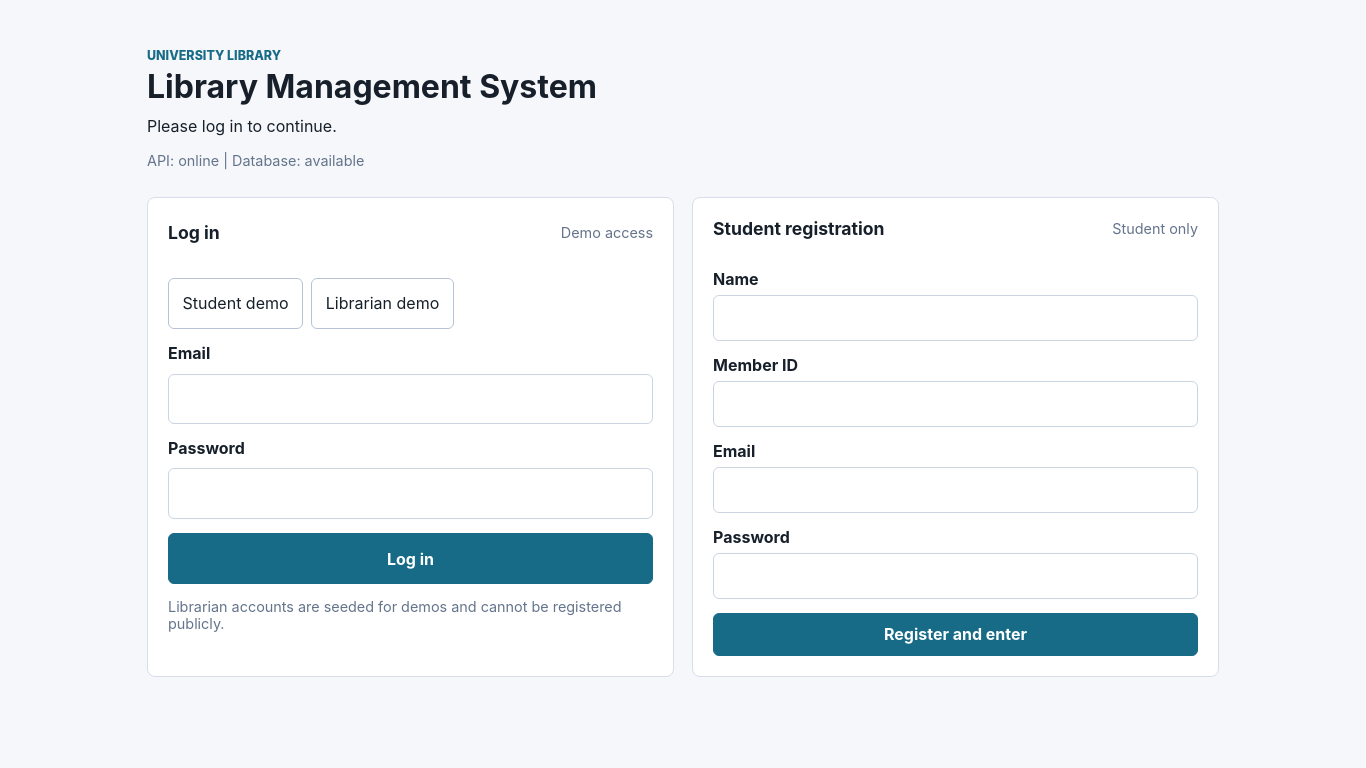
Test: auth flow › registers a student and auto-enters the dashboard
The width and height of the screenshot is (1366, 768).
Check: the heading "Student registration" is shown, box [713,218,884,239]
Type "New Student" into the field labelled "Name" at (956, 318), box [713,295,1198,341]
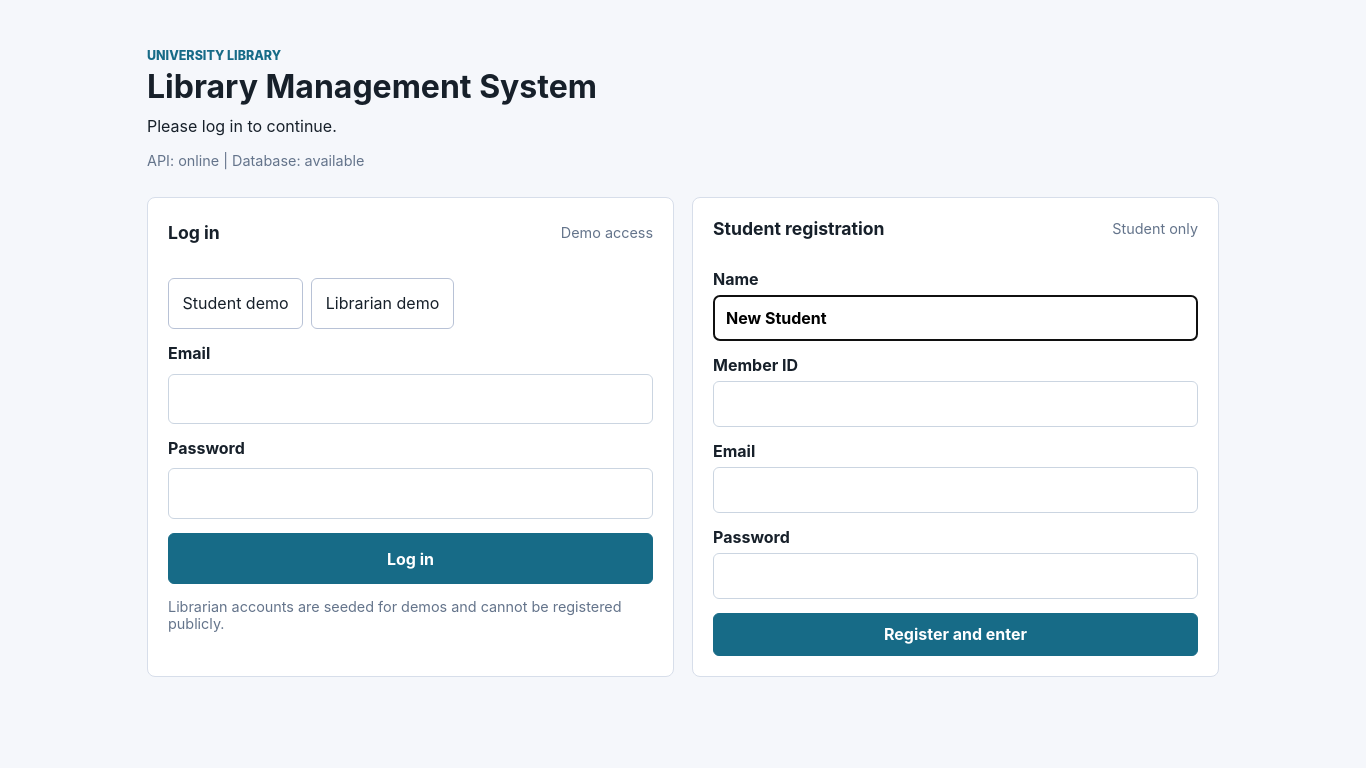
Type "STU-2002" into the field labelled "Member ID" at (956, 404), box [713,381,1198,427]
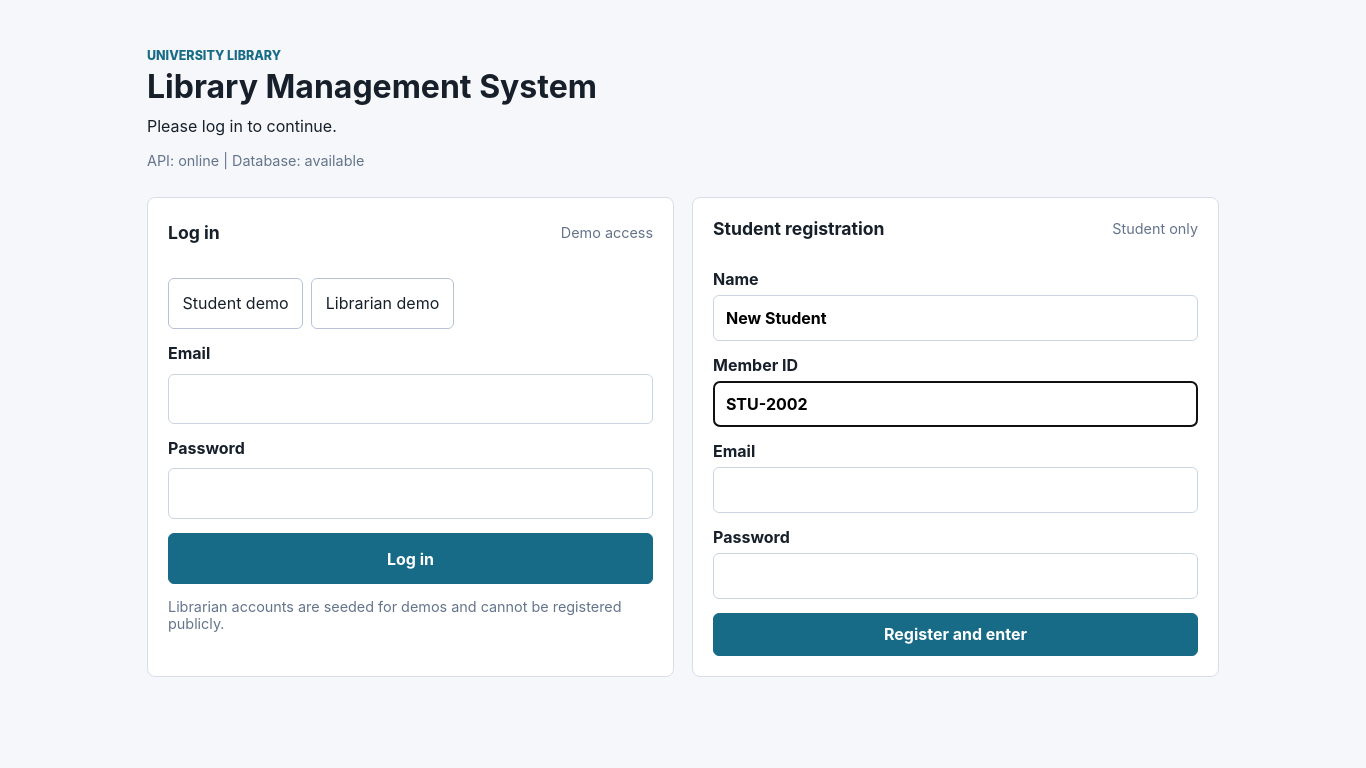
Type "new.student@example.edu" into the field labelled "Email" below "Member ID" at (956, 490), box [713,467,1198,513]
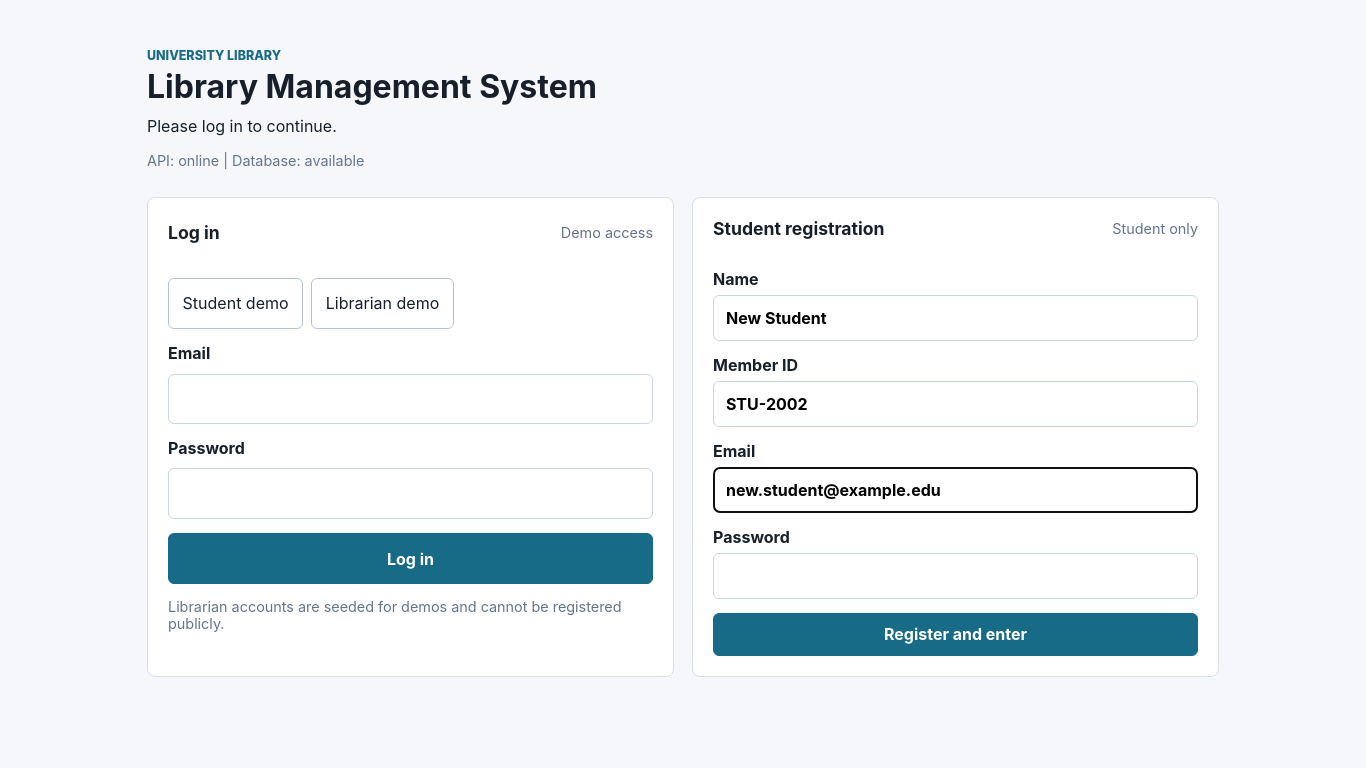
Type "password123" into the password field labelled "Password" below "Member ID" at (956, 576), box [713,553,1198,599]
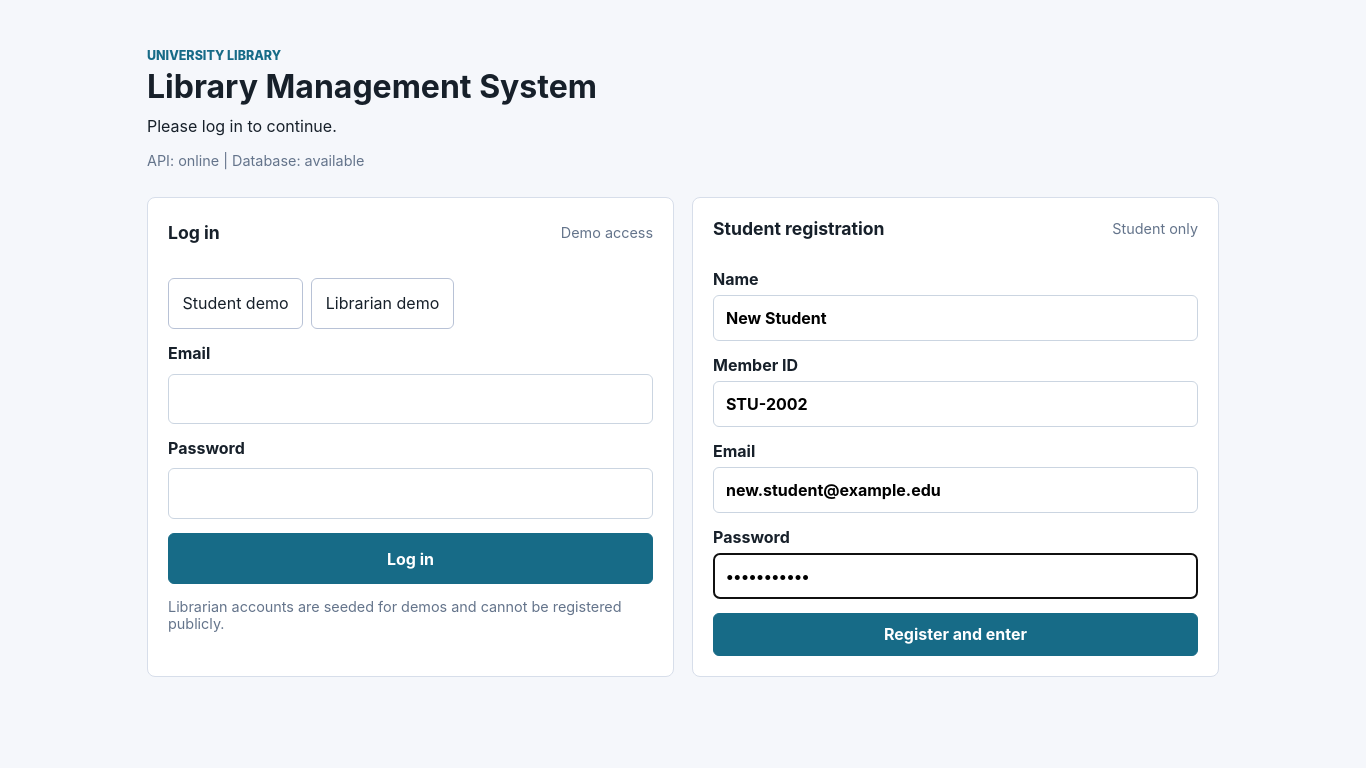
Click the button "Register and enter" at (956, 634), box [713,613,1198,656]
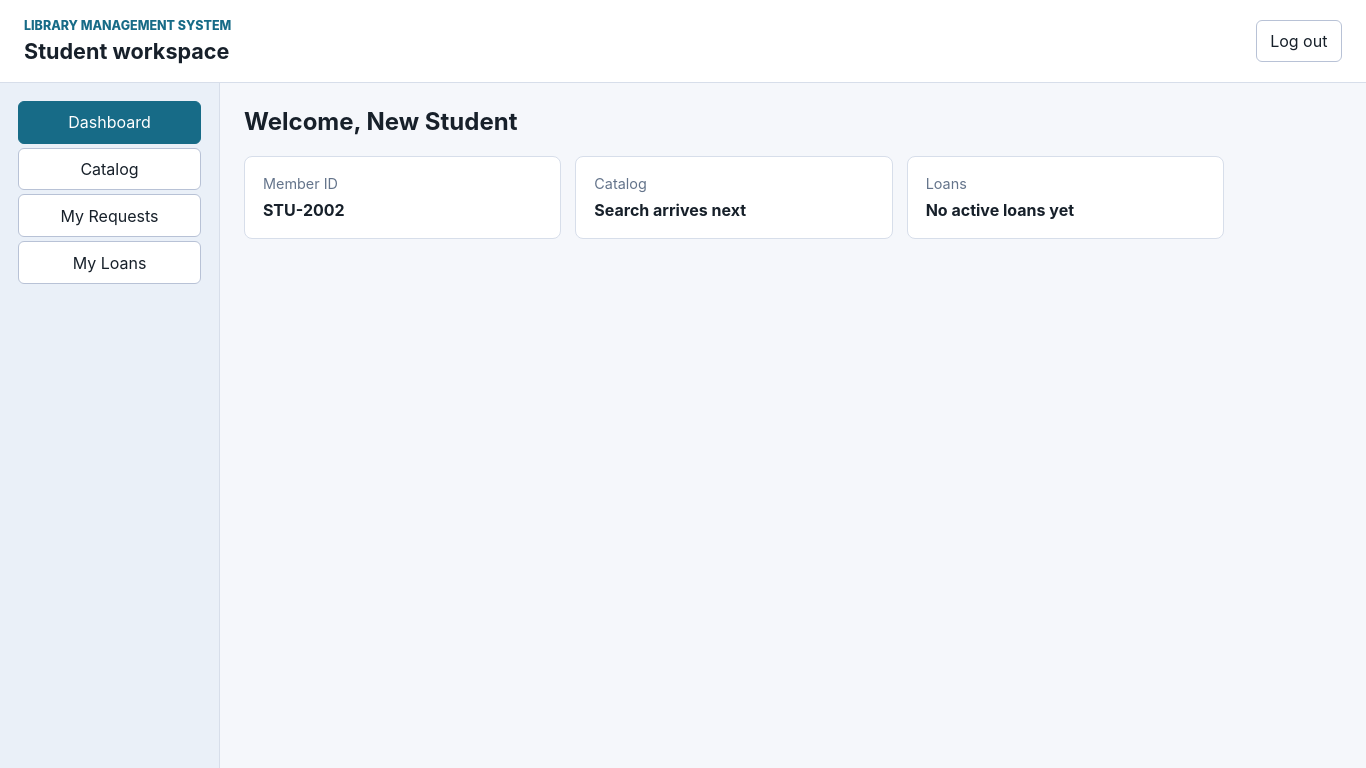
Check: the heading "Welcome, New Student" is shown, box [244,107,518,136]
Check: the text "STU-2002" is shown, box [263,200,345,220]
